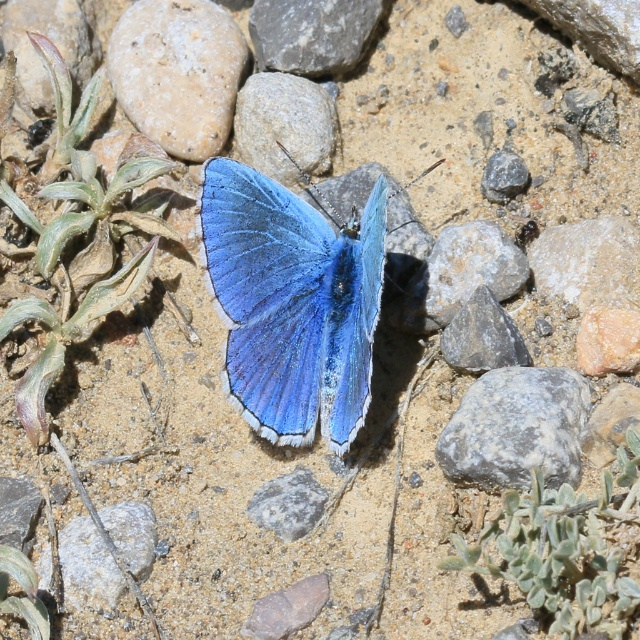Butterfly: (196, 142, 447, 456)
